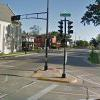Traffic light: (55, 12, 76, 44)
